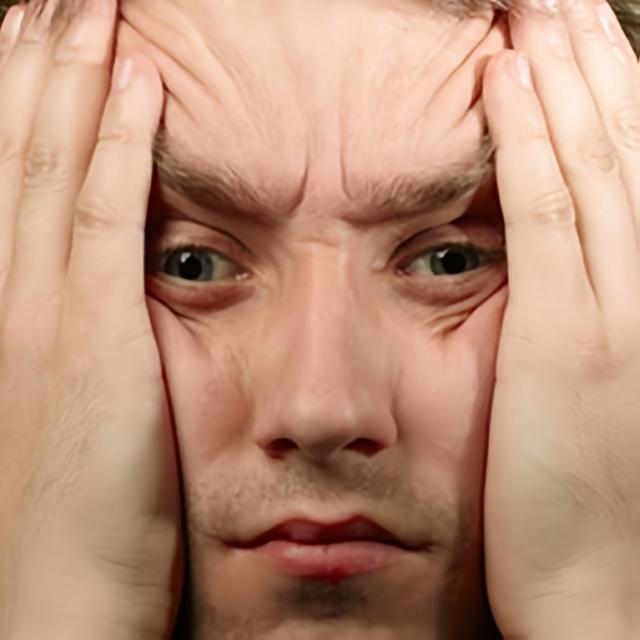anger: (135, 23, 516, 640)
